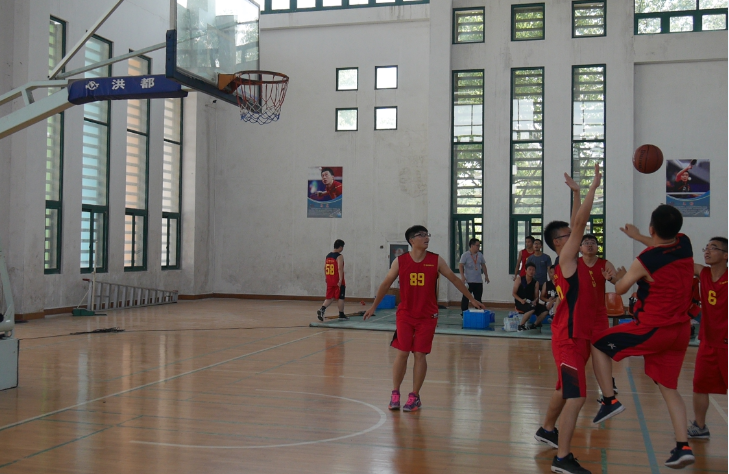ball: (633, 144, 664, 174)
basket: (226, 69, 291, 125)
player: (593, 205, 696, 465), (535, 168, 602, 474), (370, 226, 478, 411), (688, 237, 729, 435), (575, 234, 615, 379), (318, 237, 354, 323)
